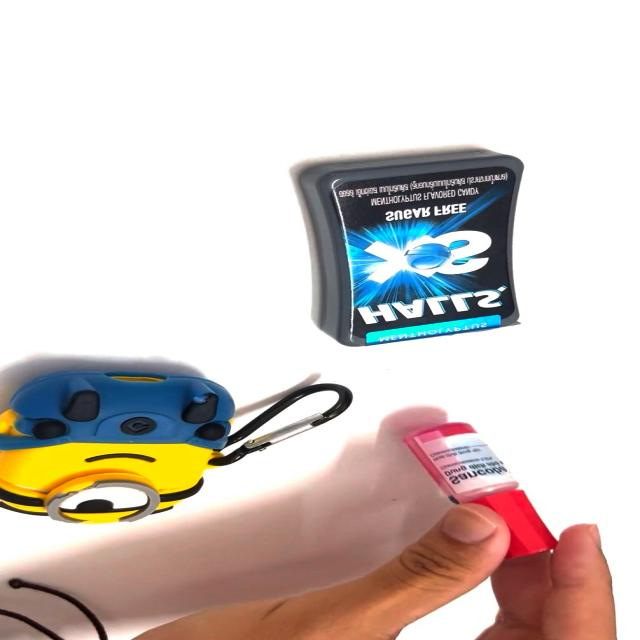airpod minion: (0, 360, 358, 532)
mint hall: (266, 142, 556, 350)
sancoba eyes: (412, 407, 559, 584)
